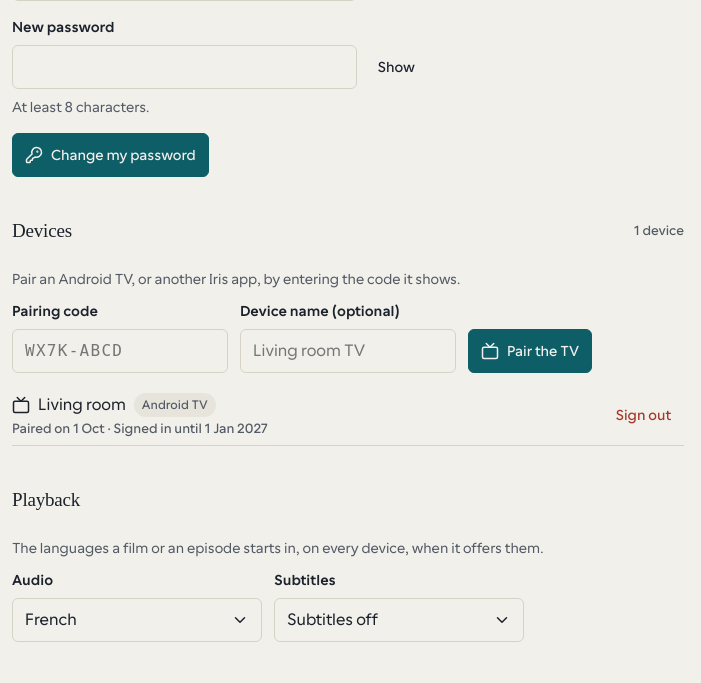
account page › « paired » comes from the claim of the code, never from a row that changed in the list
The width and height of the screenshot is (701, 683).
(page scrolled)
In the field labelled "Pairing code": (120,351) [12,329,228,373], type "wx7k-abcd"
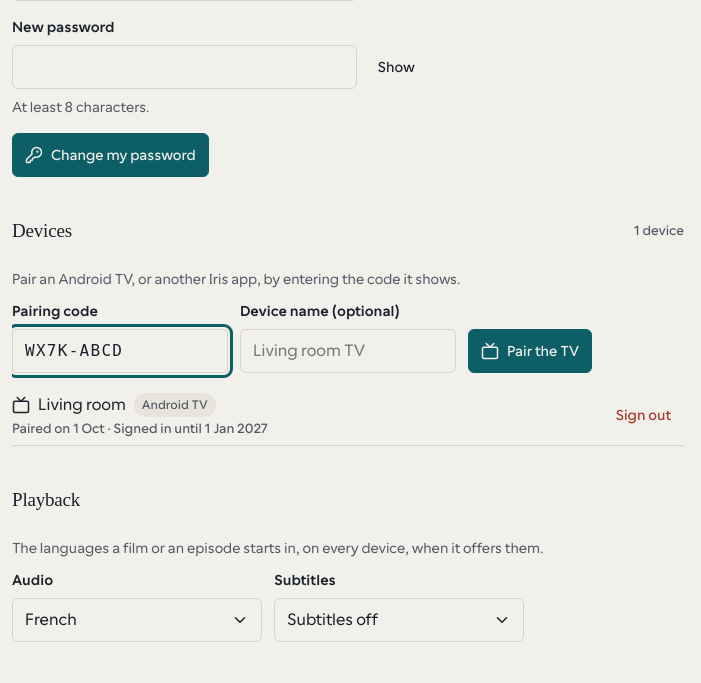
Click the button "Pair the TV": (530,351) [468,329,592,373]
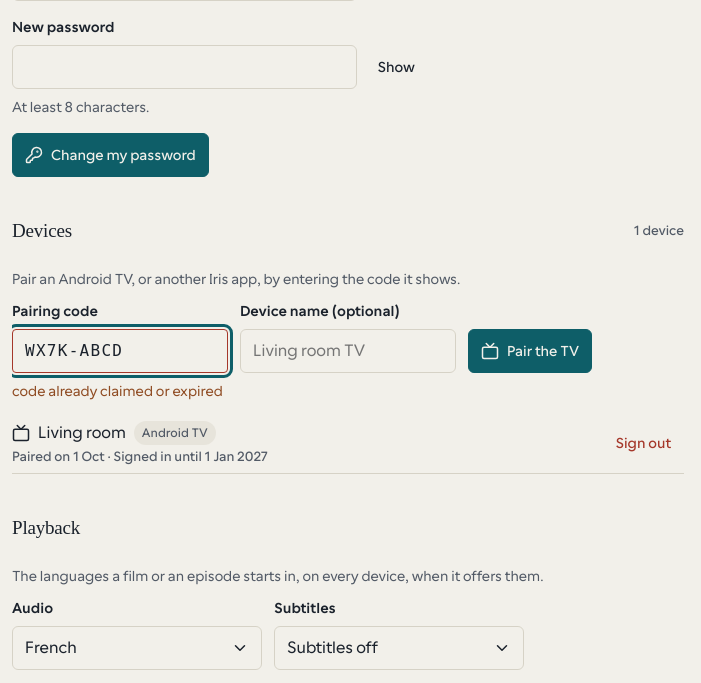
Now the text "code already claimed or expired" is shown, box [12,381,228,401]
